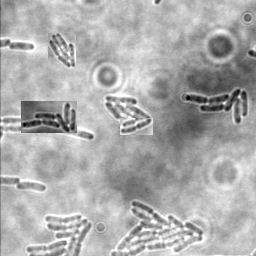Dividing: (1, 123, 95, 142), (120, 118, 153, 135), (8, 41, 35, 52)
Microcolony: (109, 200, 205, 255), (25, 212, 94, 255), (184, 89, 248, 126), (21, 101, 77, 133), (103, 96, 150, 132), (48, 33, 76, 69), (16, 182, 48, 193)
